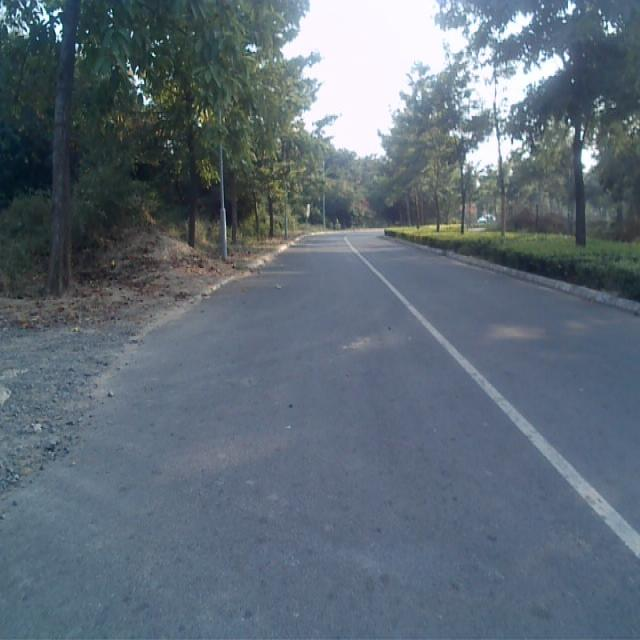lane: (0, 236, 640, 640)
